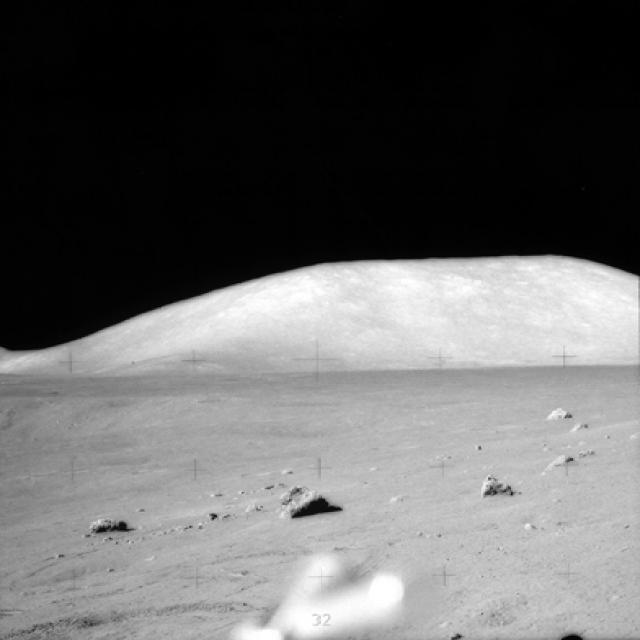rock: (275, 485, 335, 524), (82, 506, 135, 535), (473, 472, 516, 501), (548, 449, 577, 474), (545, 400, 572, 424)
